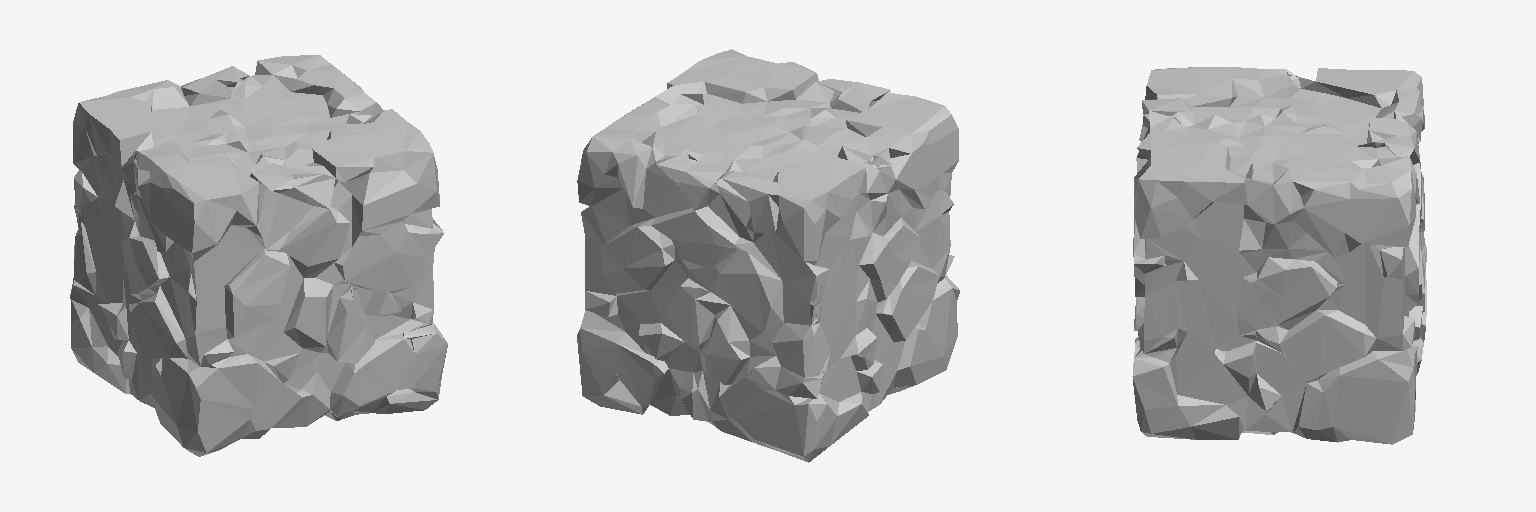
File: lava_cube_0518183714_texture.obj
The picture shows the model from 3 angles: view 1: azimuth 30°, elevation 25°; view 2: azimuth 150°, elevation 25°; view 3: azimuth 270°, elevation 25°; orthographic projection.
Parts seen in each view (by area): view 1: Mesh1; view 2: Mesh1; view 3: Mesh1.
Boxes of the visible parts, <box> form: Mesh1: <box>70,55,447,456</box>; Mesh1: <box>577,49,959,462</box>; Mesh1: <box>1132,67,1426,444</box>.
Bounding box in the file's own units: 2 × 2 × 2.